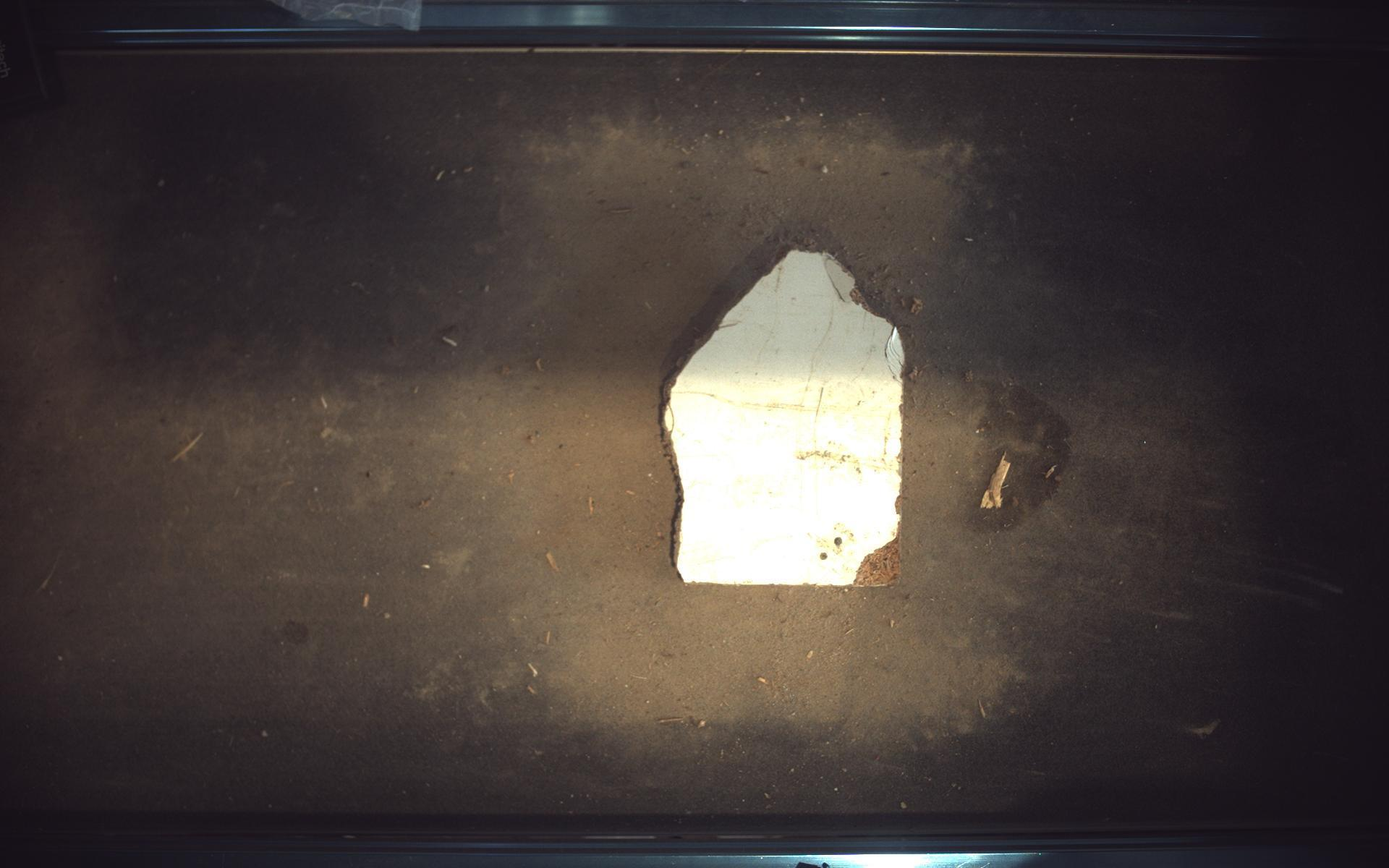wood: (664, 248, 906, 587)
